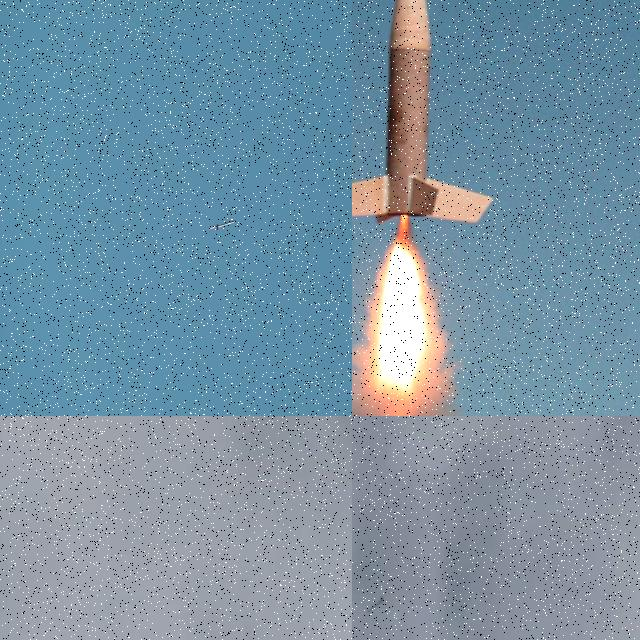Rocket: (352, 0, 501, 241), (367, 596, 384, 613), (216, 220, 236, 231)
